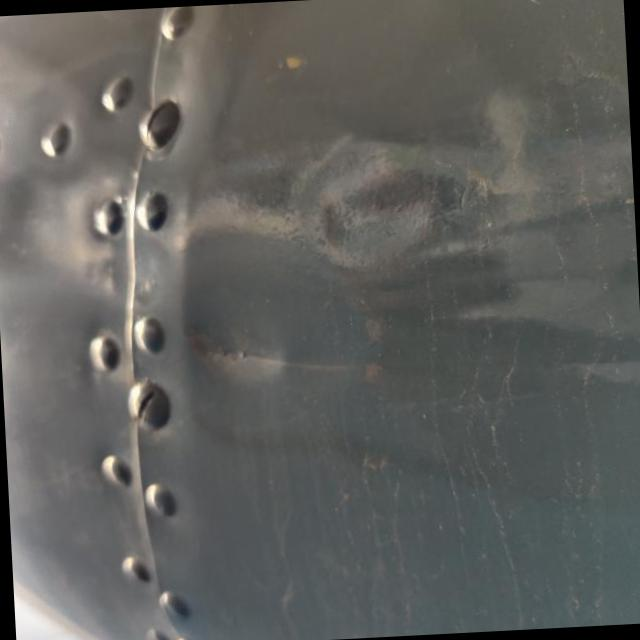Dent: (293, 136, 493, 270), (186, 299, 297, 411)
